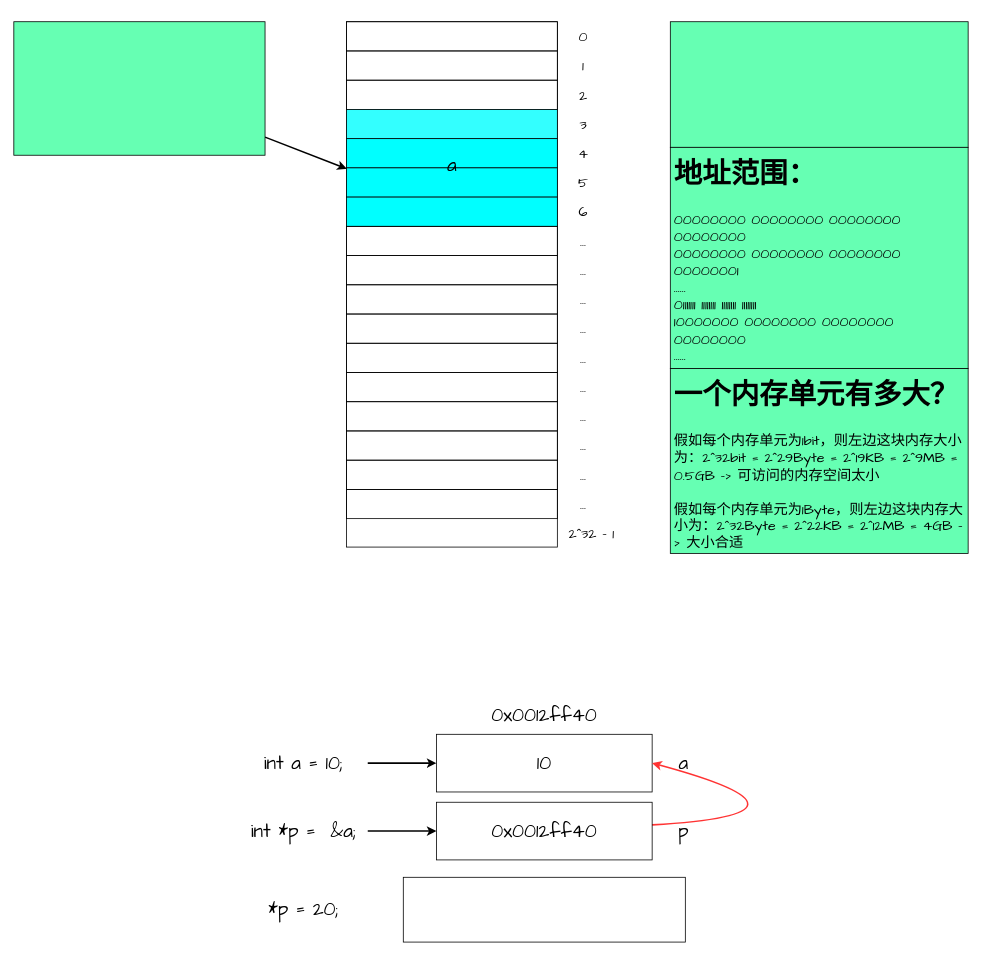
This 982x956 diagram has some shape labels left out. The centre of each missing label's shape, as x and y in pixels:
*p = 20，通过p中存放的地址找到a，并将a中的数值改为20: the point at 544,909
int a = 4 表示向内存申请4个字节的空间，来存储4，这块空间的名字叫做a。: the point at 139,88
如何产生地址？ 32位机 - 32根地址线/数据线 正电和负电 1 0: the point at 819,84
